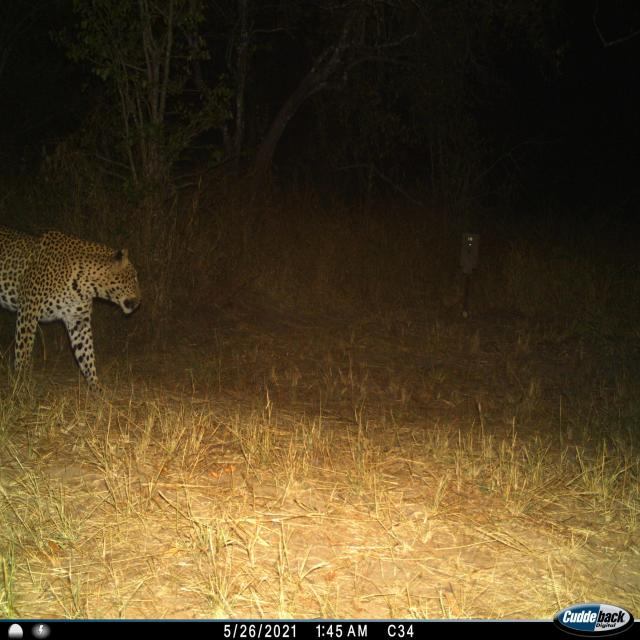Leopard: (0, 209, 141, 407)
